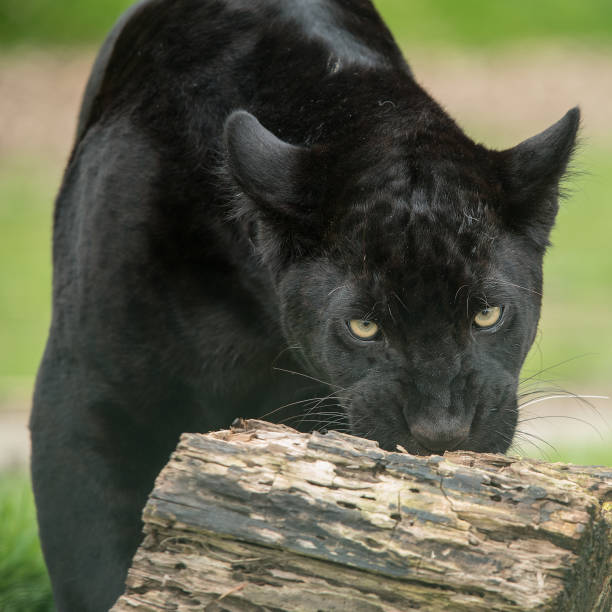panther: (213, 89, 608, 461)
